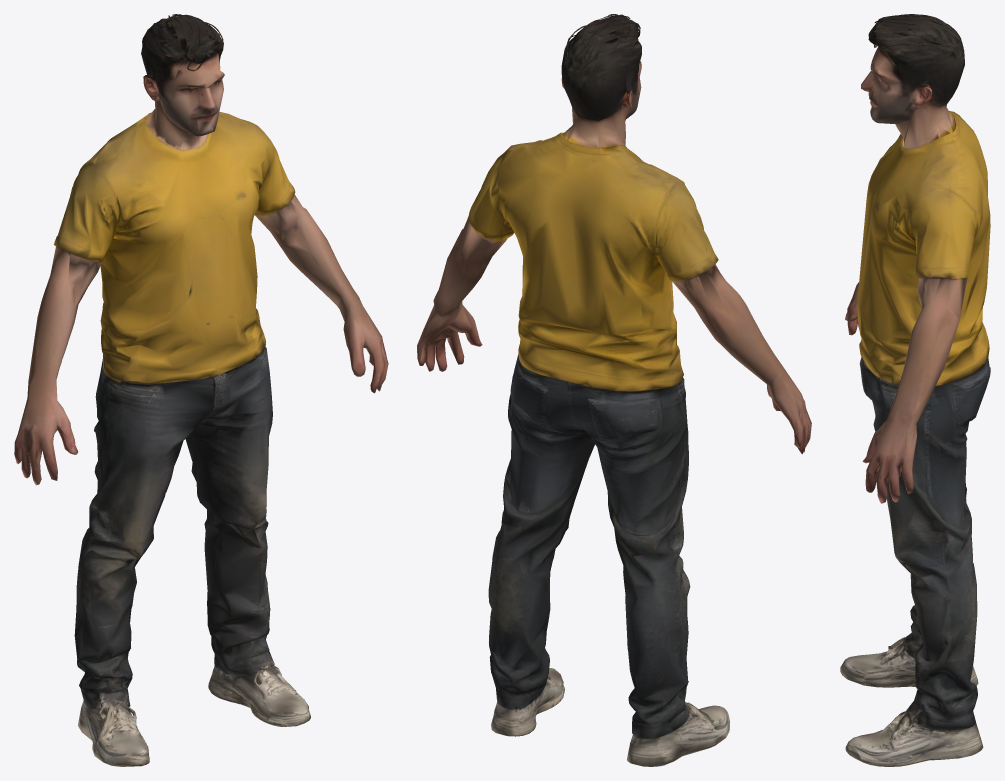
3 renders of one model, left to right at view 1: azimuth 30°, elevation 25°; view 2: azimuth 150°, elevation 25°; view 3: azimuth 270°, elevation 25°, orthographic.
Visible parts, largest first — view 1: node_0; view 2: node_0; view 3: node_0.
Part boxes in pixels (<box>): node_0: <box>14,14,388,766</box>; node_0: <box>417,14,811,766</box>; node_0: <box>840,14,990,766</box>.
Bounding box in the file's own units: 0.636 × 1.15 × 0.2233.
Materials: 1 (1 with a texture image).
